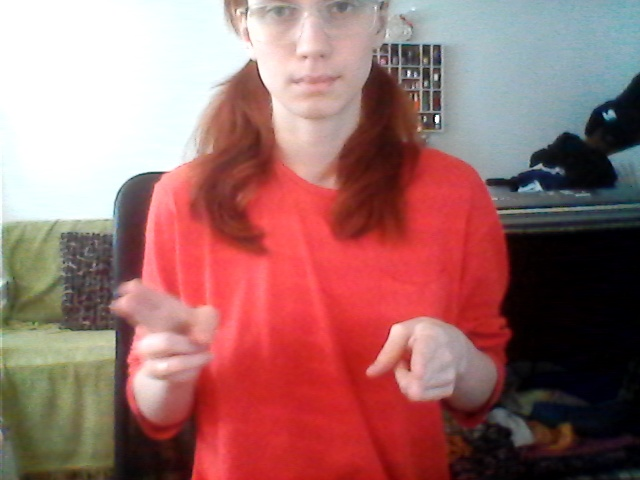ako: (107, 267, 462, 424)
